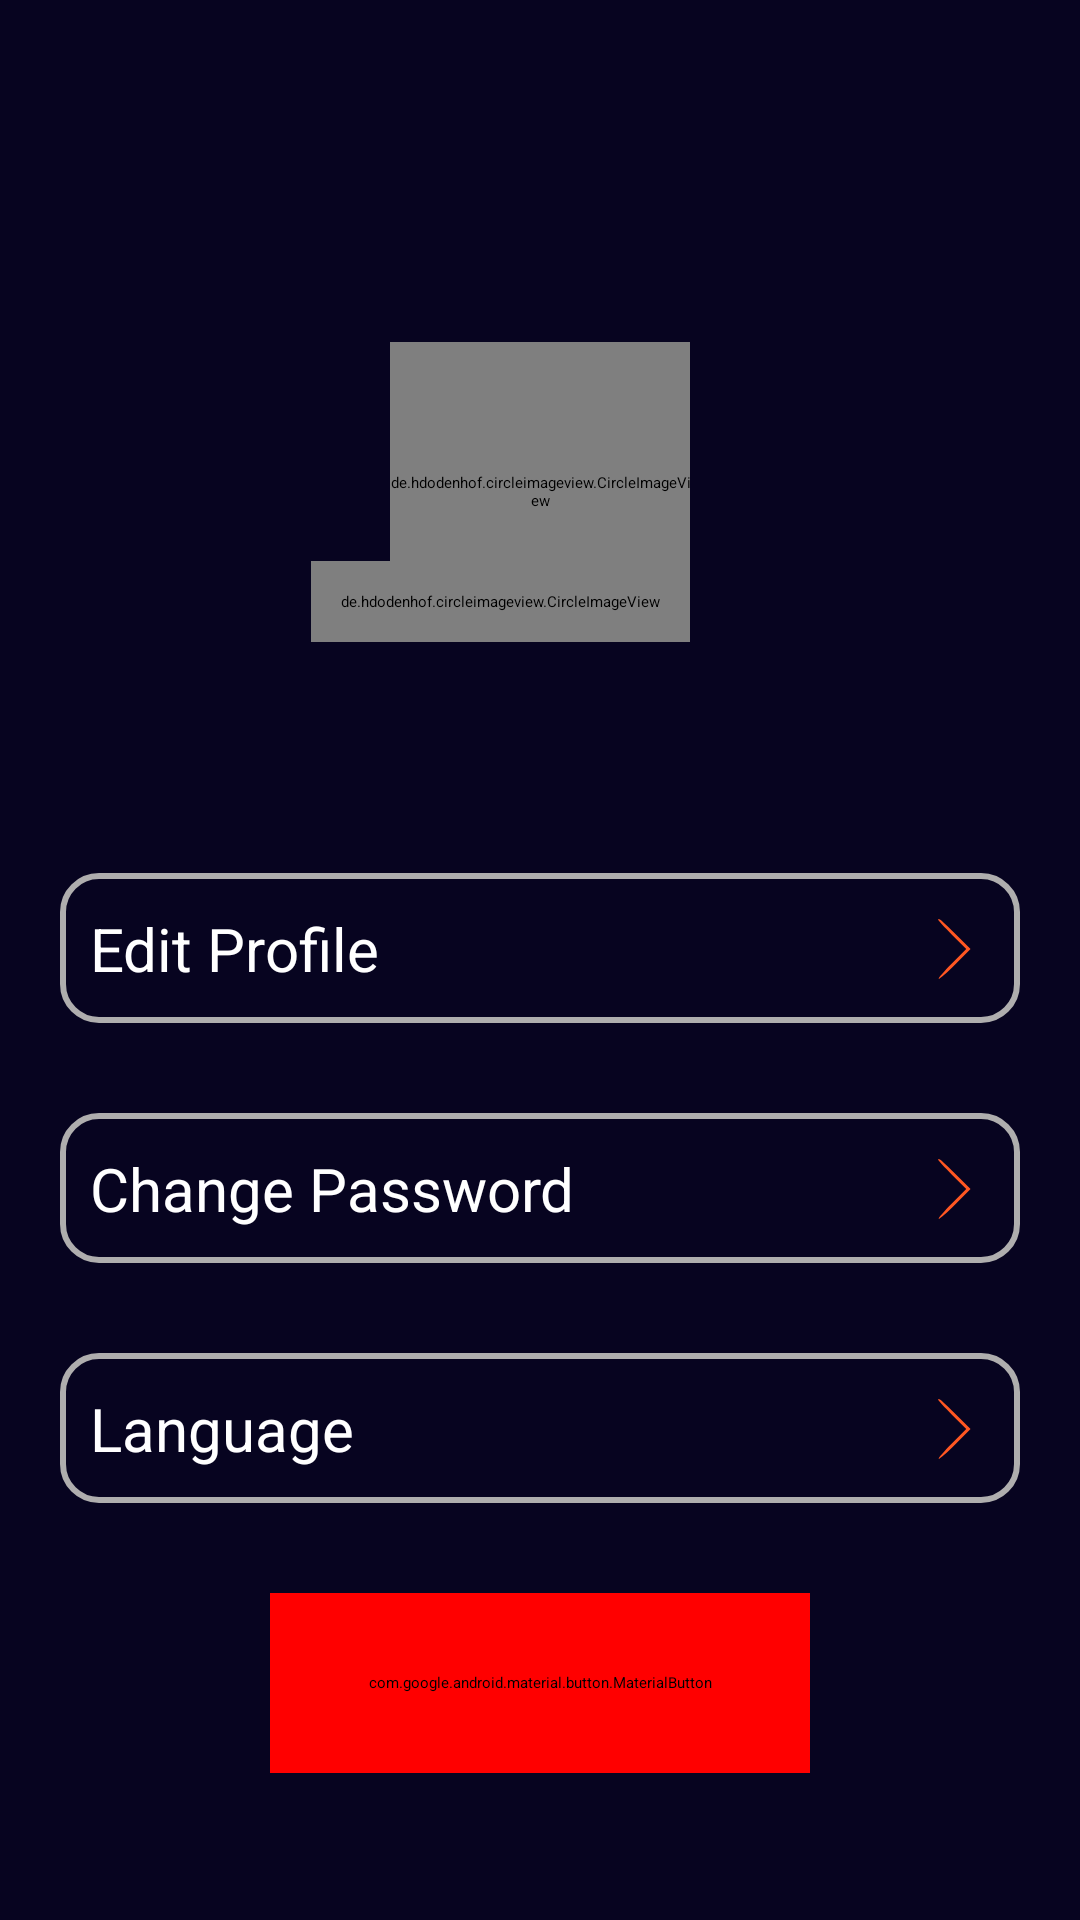

Locate icon controls on the screen. Image size 1080 x 1920, boxes as {"left": x1, "top": y1, "right": x2, "bottom": y2}.
next: {"left": 938, "top": 919, "right": 971, "bottom": 979}, {"left": 938, "top": 1159, "right": 971, "bottom": 1219}, {"left": 938, "top": 1399, "right": 971, "bottom": 1459}
